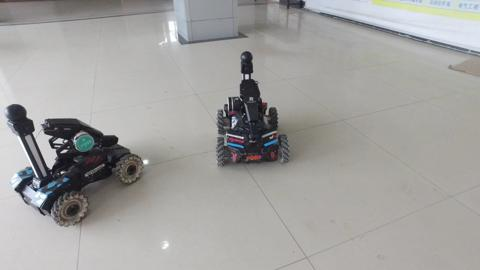chariot: (2, 92, 144, 228), (209, 49, 292, 171)
